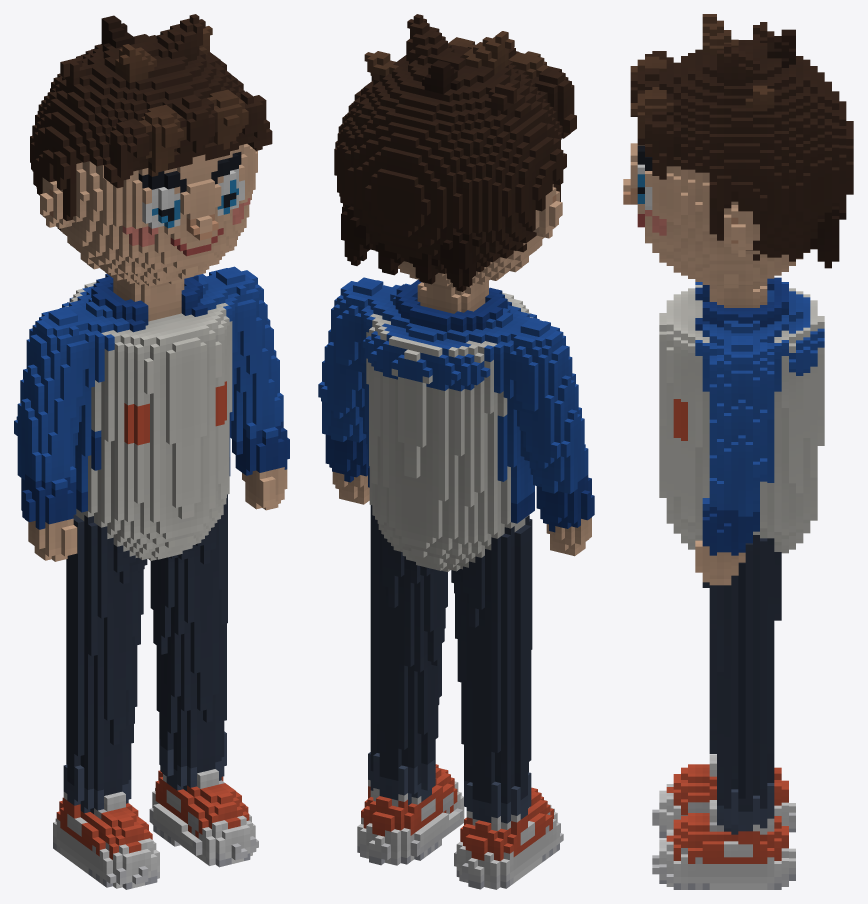
File: high_density_voxel_cartoon_human.glb
3 renders of one model, left to right at view 1: azimuth 30°, elevation 25°; view 2: azimuth 150°, elevation 25°; view 3: azimuth 270°, elevation 25°, orthographic.
Visible parts, largest first — view 1: VoxelCartoonHuman; view 2: VoxelCartoonHuman; view 3: VoxelCartoonHuman.
Boxes of the visible parts, x1,y1,x2,y2 form: VoxelCartoonHuman: [14, 14, 289, 889]; VoxelCartoonHuman: [318, 14, 594, 889]; VoxelCartoonHuman: [623, 14, 853, 889].
Size of the model in its own units: 0.567 by 1.71 by 0.432.
